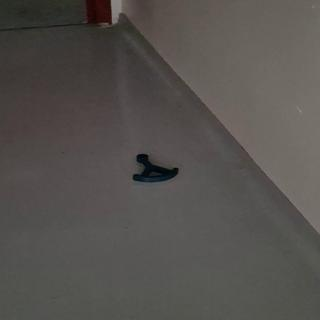haptic: (132, 154, 179, 184)
